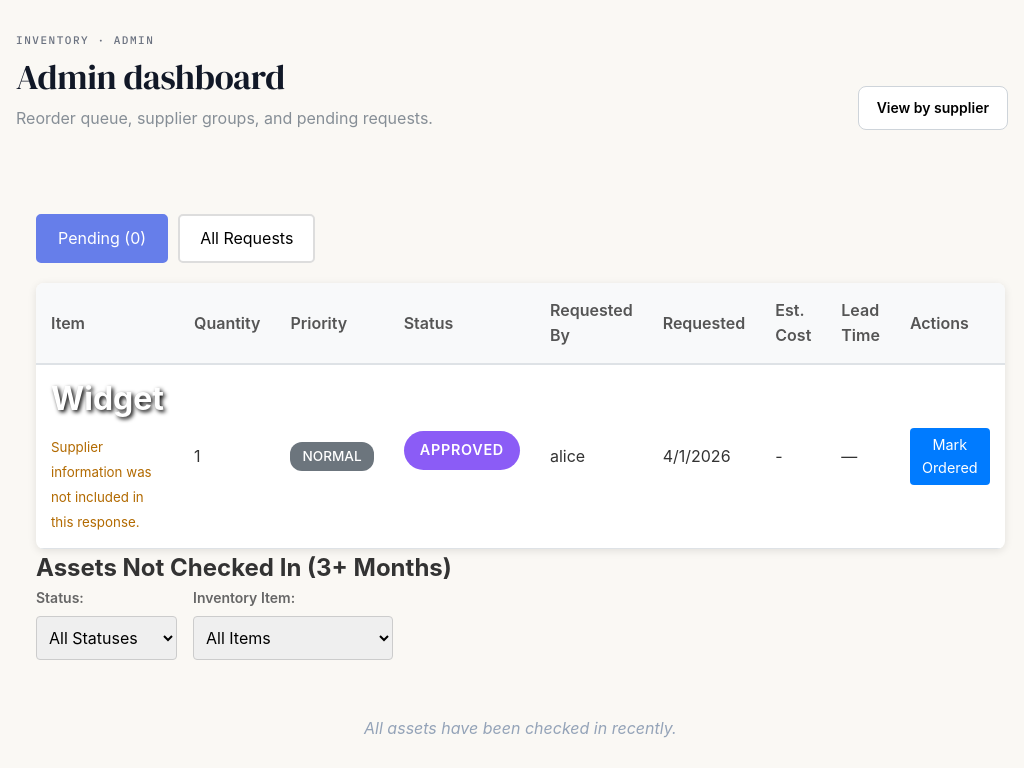
Test case: AdminDashboard — mark ordered flow › surfaces an error when marking ordered fails
The width and height of the screenshot is (1024, 768).
Click the button "Mark Ordered" at x=950, y=457, box [910, 428, 990, 485]
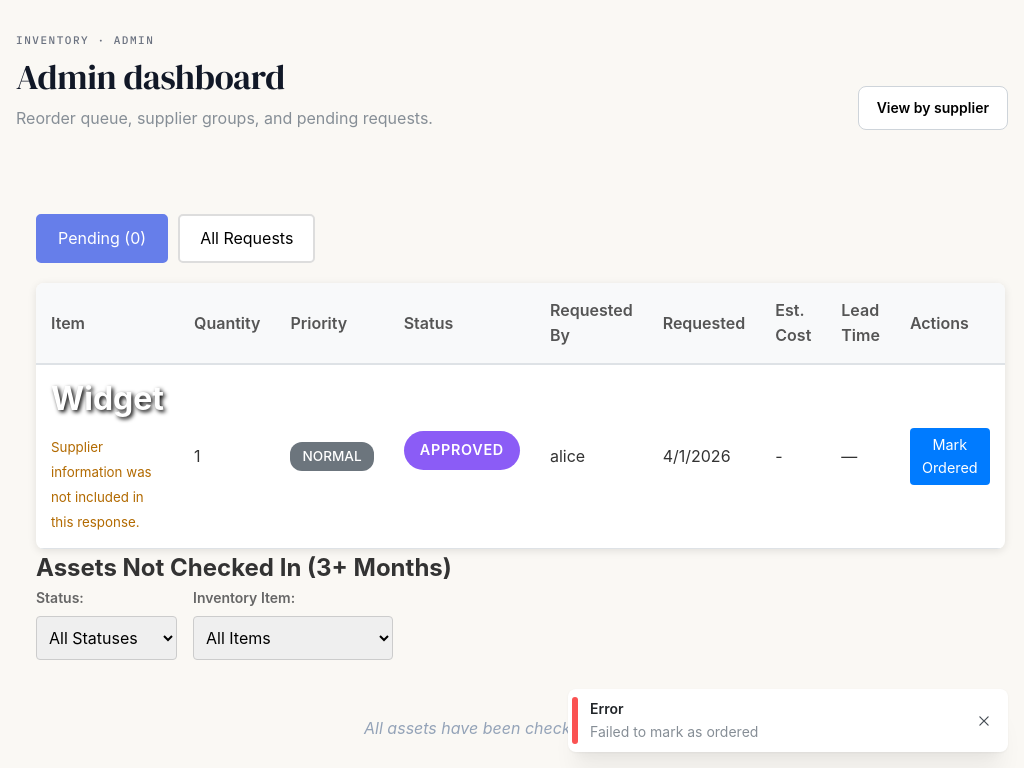
Check: the text "Failed to mark as ordered" is shown, box [590, 723, 758, 740]
